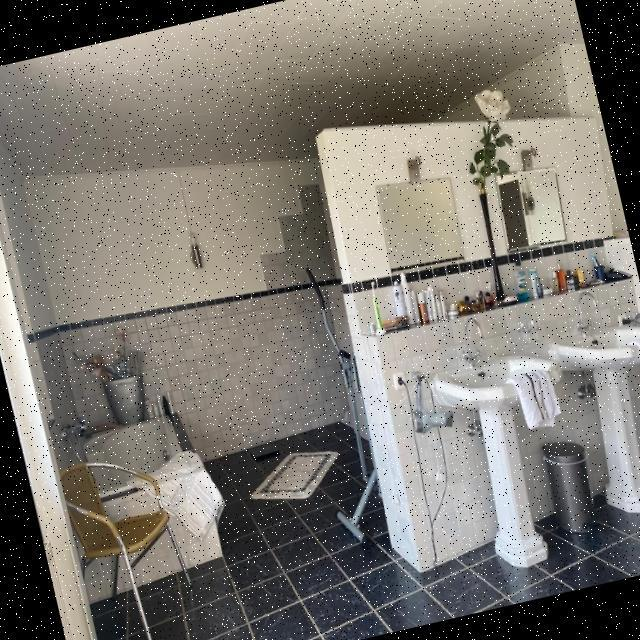bath: (61, 401, 214, 553)
wastafel: (416, 276, 640, 580)
